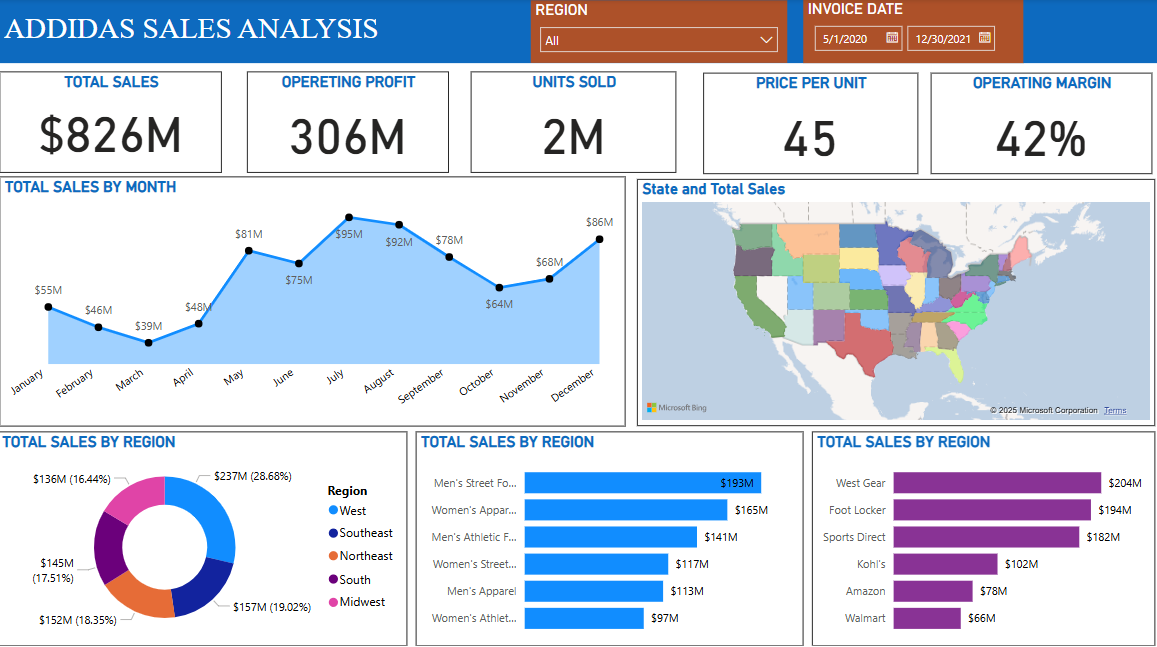

The dashboard page shown, as its layout file describes it:
{"tool":"powerbi","page":{"name":"Page 1","canvas":[1280,720],"ordinal":0},"visuals":[{"type":"card","title":"TOTAL SALES","fields":{"Values":["Sum(Data Sales Adidas.Total Sales)"]},"box":[2.9,80,244.3,111.4],"z":0},{"type":"textbox","box":[2.9,0,1277.1,70],"z":1000},{"type":"card","title":"OPERETING PROFIT","fields":{"Values":["Sum(Data Sales Adidas.Operating Profit)"]},"box":[274.3,80,221.4,111.4],"z":2000},{"type":"card","title":"UNITS SOLD","fields":{"Values":["Sum(Data Sales Adidas.Units Sold)"]},"box":[520,80,225.7,111.4],"z":3000},{"type":"card","title":"PRICE PER UNIT","fields":{"Values":["Avg(Data Sales Adidas.Price per Unit)"]},"box":[775.7,81.4,235.7,111.4],"z":4000},{"type":"card","title":"OPERATING MARGIN","fields":{"Values":["Avg(Data Sales Adidas.Operating Margin)"]},"box":[1025.7,81.4,242.9,111.4],"z":5000},{"type":"lineChart","title":"TOTAL SALES BY MONTH","fields":{"Y":["Sum(Data Sales Adidas.Total Sales)"],"Category":["Data Sales Adidas.Invoice Date.Variation.Date Hierarchy.Month"]},"box":[2.9,194.3,687.1,274.3],"z":6000},{"type":"filledMap","fields":{"Category":["Data Sales Adidas.State"],"Series":["Data Sales Adidas.Total Sales"]},"box":[702.9,197.1,568.6,271.4],"z":7000},{"type":"donutChart","title":"TOTAL SALES BY REGION","fields":{"Y":["Sum(Data Sales Adidas.Total Sales)"],"Category":["Data Sales Adidas.Region"]},"box":[0,474.3,450,235.7],"z":8000},{"type":"clusteredBarChart","title":"TOTAL SALES BY REGION","fields":{"Y":["Sum(Data Sales Adidas.Total Sales)"],"Category":["Data Sales Adidas.Product"]},"box":[460,474.3,425.7,235.7],"z":9000},{"type":"clusteredBarChart","title":"TOTAL SALES BY REGION","fields":{"Y":["Sum(Data Sales Adidas.Total Sales)"],"Category":["Data Sales Adidas.Retailer"]},"box":[894.3,474.3,377.1,235.7],"z":10000},{"type":"slicer","title":"REGION","fields":{"Values":["Data Sales Adidas.Region"]},"box":[585.7,1.4,281.4,68.6],"z":11000},{"type":"slicer","title":"INVOICE DATE","fields":{"Values":["Data Sales Adidas.Invoice Date"]},"box":[885.7,0,241.4,70],"z":12000}]}

Visuals, with their boxes in screenshot pixels (x1, y1, x2, y2), scaled from the page's 1280x720 canvas onto the 1157x647 screenshot:
"TOTAL SALES" card: l=3, t=72, r=223, b=172
textbox: l=3, t=0, r=1156, b=63
"OPERETING PROFIT" card: l=248, t=72, r=448, b=172
"UNITS SOLD" card: l=470, t=72, r=674, b=172
"PRICE PER UNIT" card: l=701, t=73, r=914, b=173
"OPERATING MARGIN" card: l=927, t=73, r=1147, b=173
"TOTAL SALES BY MONTH" lineChart: l=3, t=175, r=624, b=421
filledMap - Data Sales Adidas.State x Data Sales Adidas.Total Sales: l=635, t=177, r=1149, b=421
"TOTAL SALES BY REGION" donutChart: l=0, t=426, r=407, b=638
"TOTAL SALES BY REGION" clusteredBarChart: l=416, t=426, r=801, b=638
"TOTAL SALES BY REGION" clusteredBarChart: l=808, t=426, r=1149, b=638
"REGION" slicer: l=529, t=1, r=784, b=63
"INVOICE DATE" slicer: l=801, t=0, r=1019, b=63
